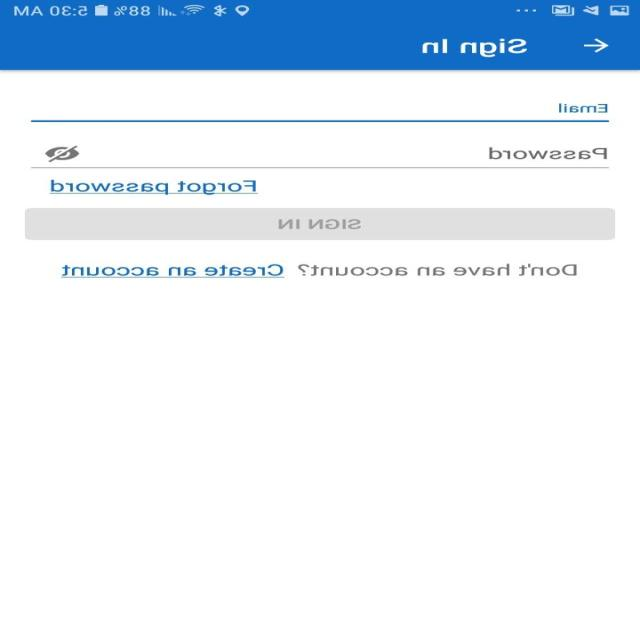EditText: (32, 145, 610, 168), (31, 103, 610, 122)
Icon: (45, 145, 81, 163), (583, 38, 610, 53)
Text: (298, 263, 578, 276), (50, 179, 258, 195), (62, 264, 286, 278), (422, 38, 528, 58), (489, 146, 608, 160), (558, 104, 608, 113)
TextButton: (25, 208, 616, 240)
